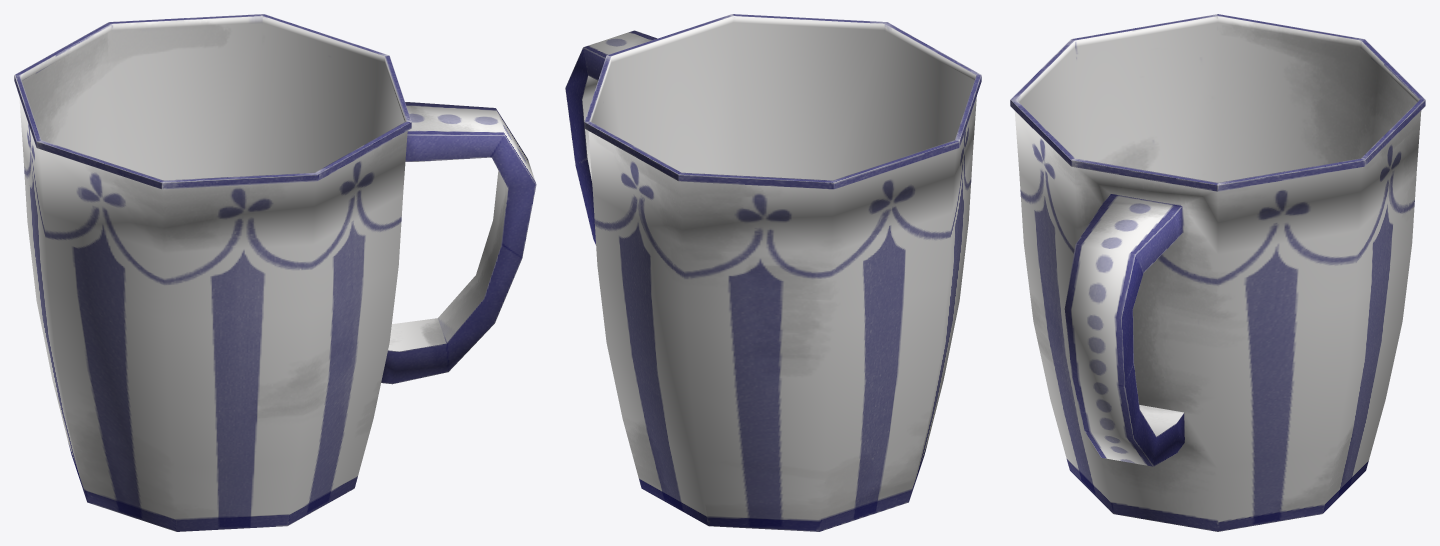
The model's file is tacita_cafe_.fbx.
3 views of the same model, side by side, from view 1: azimuth 30°, elevation 25°; view 2: azimuth 150°, elevation 25°; view 3: azimuth 270°, elevation 25° (orthographic).
Visible parts, largest first — view 1: Tacita_cafe_term; view 2: Tacita_cafe_term; view 3: Tacita_cafe_term.
Boxes of the visible parts, <box> form: Tacita_cafe_term: <box>14,14,536,531</box>; Tacita_cafe_term: <box>565,14,981,531</box>; Tacita_cafe_term: <box>1010,14,1425,531</box>.
Bounding box in the file's own units: 7.14 × 5.76 × 5.83.
1 material, 1 textured.
